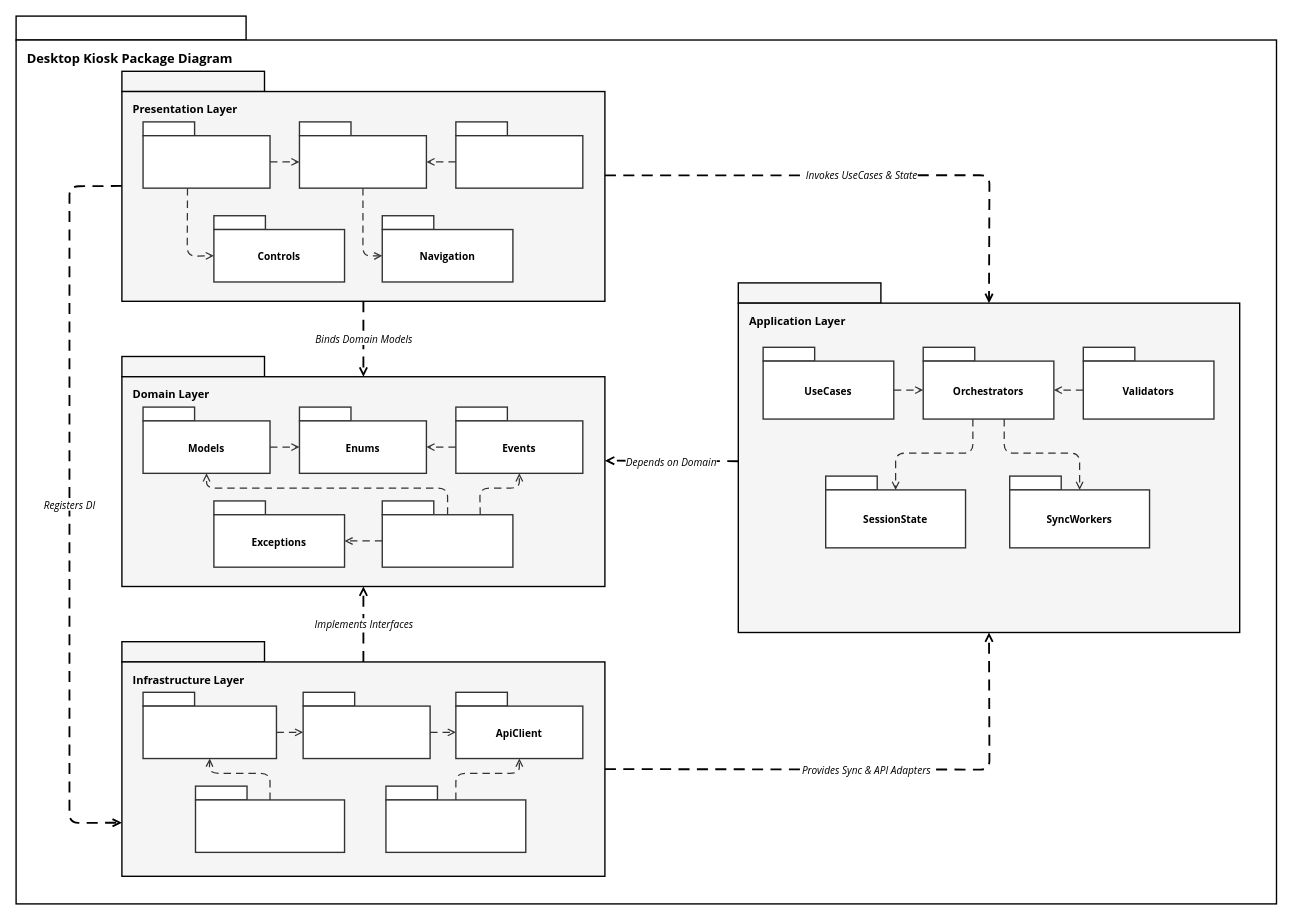
Image size: 1294x921. Some labels were removed from this diagram. The shapes that lost their labels are listed below. From the top down, each one's centre as x and y in pixels, then its label:
point (206, 161): Views
point (362, 161): ViewModels
point (519, 161): Configuration
point (447, 540): Interfaces
point (209, 732): LockdownHooks
point (366, 732): SignalRClient
point (269, 826): HardwareAdapters
point (455, 826): LocalJournal
